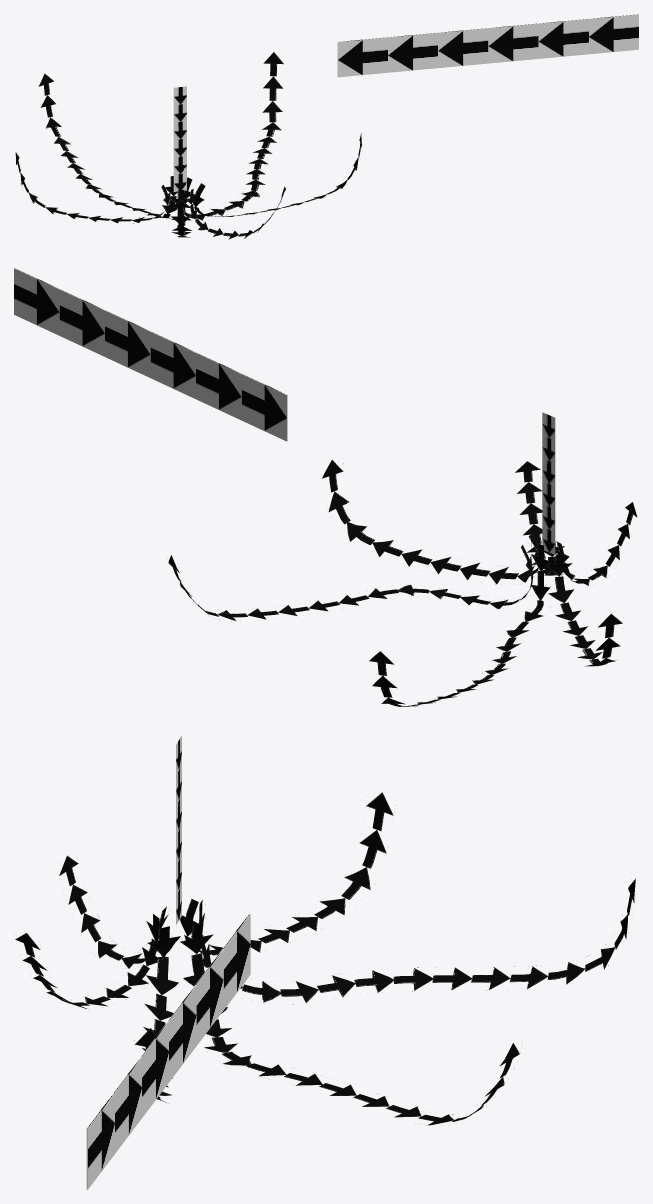
Rendered from Compressor Valve Flow.fbx.
The picture shows the model from 3 angles, top to bottom: view 1: azimuth 30°, elevation 25°; view 2: azimuth 150°, elevation 25°; view 3: azimuth 270°, elevation 25°; orthographic projection. The views are drawn at different scales.
Parts seen in each view (by area): view 1: Line001, Line008, Line004, Line002, Line007, Line005, Line006, Line003; view 2: Line001, Line005, Line004, Line008, Line007, Line002, Line003, Line006; view 3: Line001, Line004, Line008, Line007, Line005, Line003, Line006, Line002.
Part boxes in pixels (<box>): Line001: <box>337,14,638,77</box>; Line008: <box>184,52,283,220</box>; Line004: <box>38,73,177,218</box>; Line002: <box>173,86,186,191</box>; Line007: <box>15,152,171,223</box>; Line005: <box>190,133,361,216</box>; Line006: <box>171,190,191,237</box>; Line003: <box>187,186,285,239</box>; Line001: <box>14,268,287,441</box>; Line005: <box>322,459,538,584</box>; Line004: <box>369,541,550,706</box>; Line008: <box>168,544,533,621</box>; Line007: <box>547,554,622,666</box>; Line002: <box>542,412,555,554</box>; Line003: <box>515,461,564,575</box>; Line006: <box>555,502,637,585</box>; Line001: <box>86,913,250,1189</box>; Line004: <box>196,878,635,1004</box>; Line008: <box>179,923,519,1125</box>; Line007: <box>180,792,393,955</box>; Line005: <box>134,926,180,1103</box>; Line003: <box>15,914,159,1009</box>; Line006: <box>59,855,168,968</box>; Line002: <box>176,735,181,924</box>.
Bounding box in the file's own units: 183 × 48.29 × 105.
